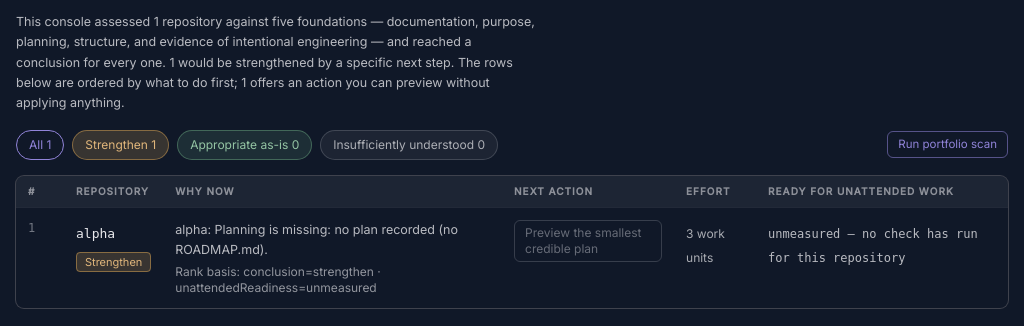
TodayView — the toolbar offers the portfolio scan › says so when a scan is already running instead of pretending to start one
Click the button "Run portfolio scan" at (948, 145), box [887,131,1008,158]
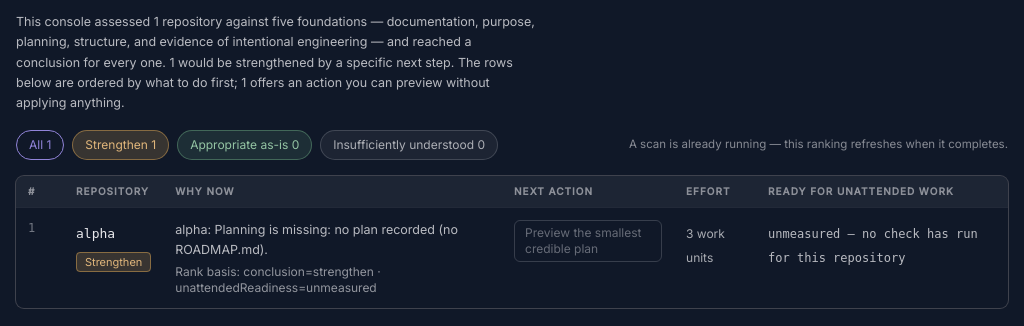
Result: the text with test id "today-scan-note" shows "already running" at [629,137,1008,151]
